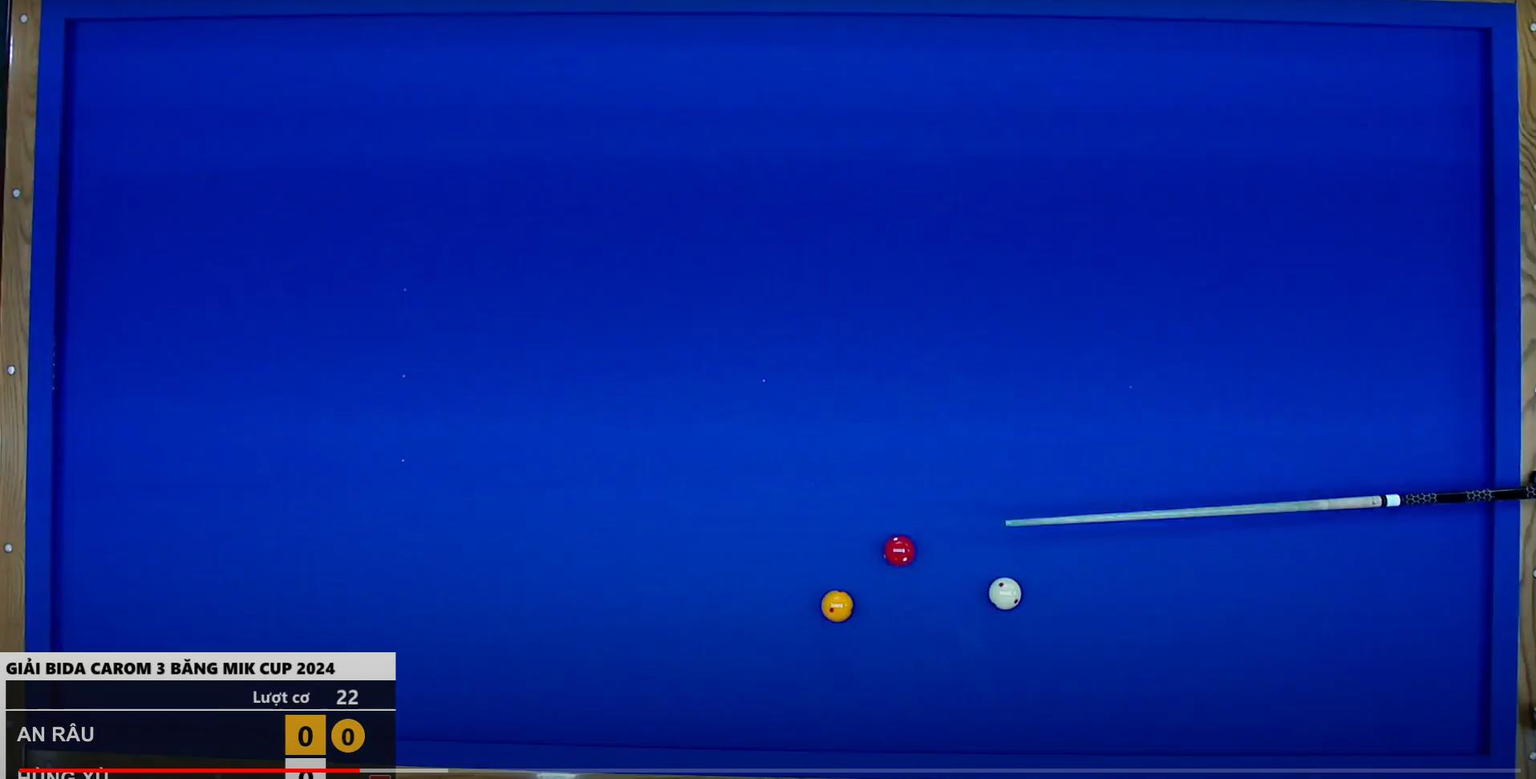red ball: (880, 530, 923, 575)
white ball: (983, 572, 1026, 617)
yellow ball: (817, 586, 856, 630)
